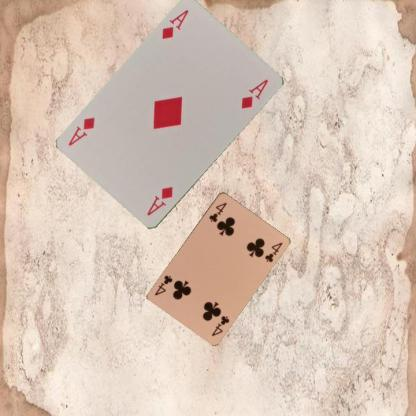4c: (209, 312, 231, 338), (206, 199, 228, 223)
Ad: (159, 8, 190, 41), (144, 184, 174, 218)
